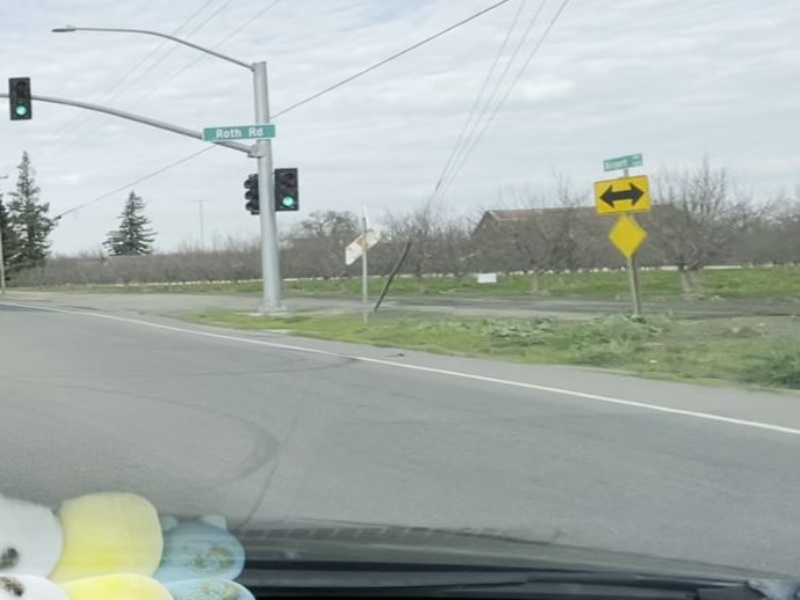left right sign: (588, 174, 651, 215)
